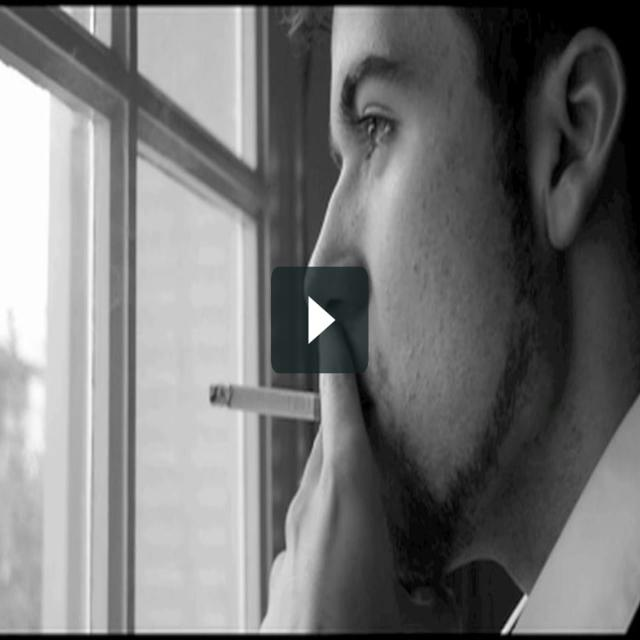smoke: (204, 375, 314, 452)
